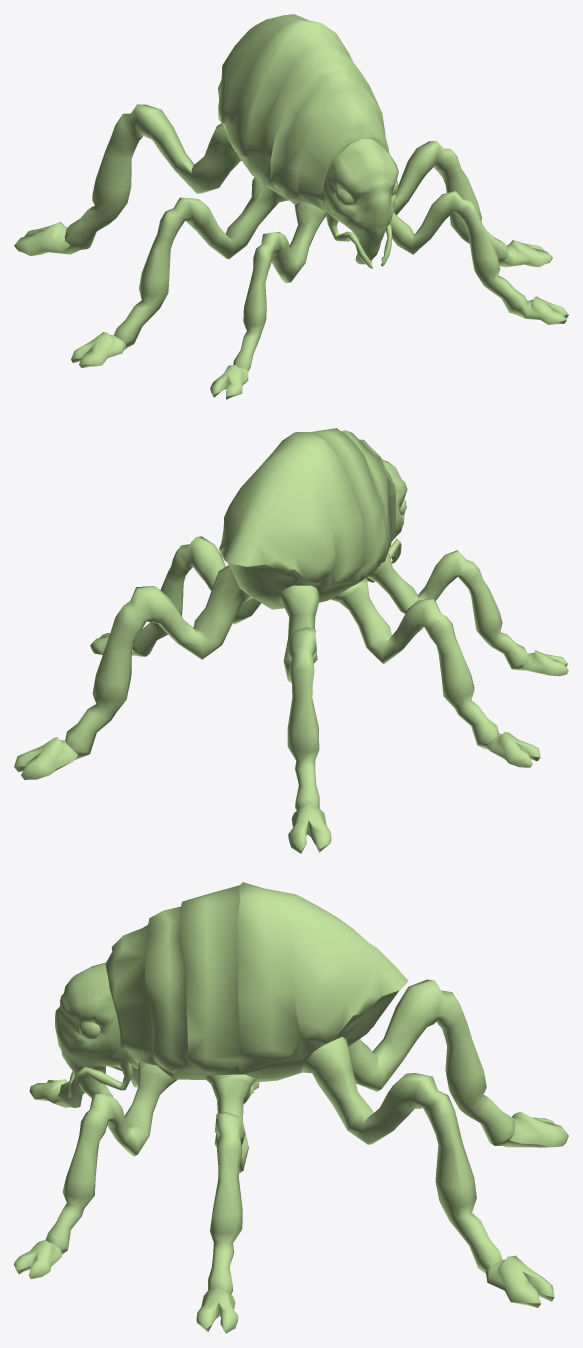
Rendered from flea.gltf.
The picture shows the model from 3 angles, top to bottom: view 1: azimuth 30°, elevation 25°; view 2: azimuth 150°, elevation 25°; view 3: azimuth 270°, elevation 25°; orthographic projection. The views are drawn at different scales.
Parts seen in each view (by area): view 1: Flea; view 2: Flea; view 3: Flea.
Boxes of the visible parts, x1=… form: Flea: x1=14, y1=14, x2=568, y2=399; Flea: x1=14, y1=428, x2=568, y2=853; Flea: x1=14, y1=882, x2=568, y2=1333.
Bounding box in the file's own units: 0.9517 × 0.575 × 0.8742.
